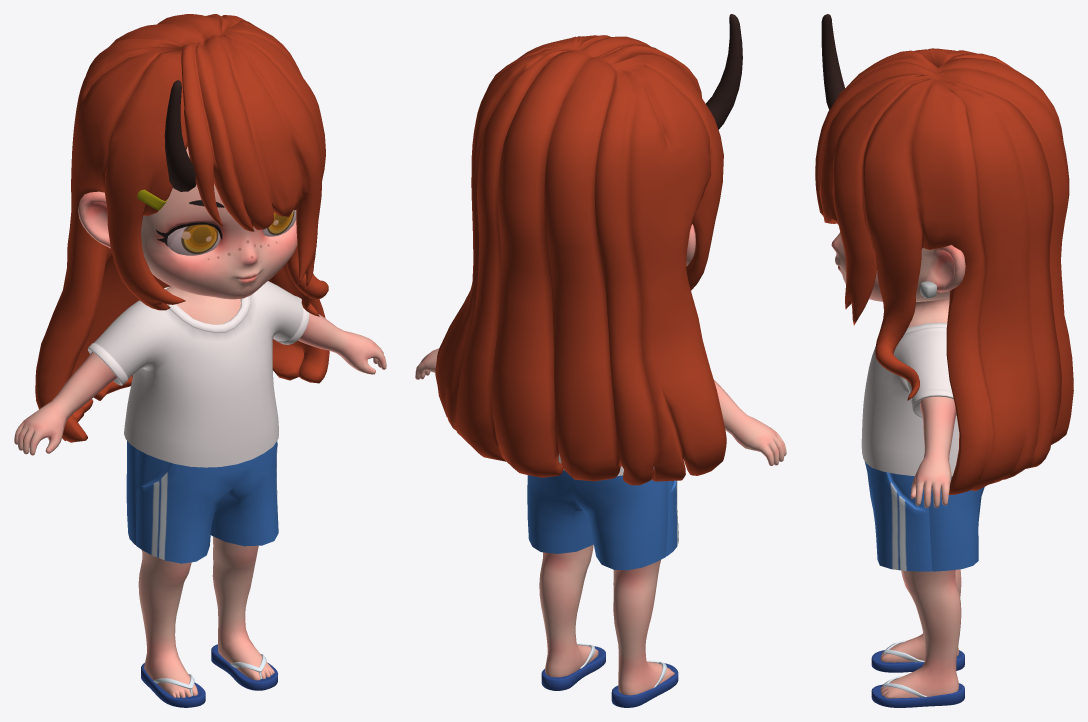
File: w_hair_01.fbx
3 views of the same model, side by side, from view 1: azimuth 30°, elevation 25°; view 2: azimuth 150°, elevation 25°; view 3: azimuth 270°, elevation 25° (orthographic). The views are drawn at different scales.
Visible parts, largest first — view 1: w_hair_01, shangbanshen, xiabanshen, head, foot, hand; view 2: w_hair_01, xiabanshen, foot, hand, shangbanshen; view 3: w_hair_01, xiabanshen, shangbanshen, foot, head, hand.
Part boxes in pixels (x1,y1,x2,y2): w_hair_01: (35, 14, 329, 442); shangbanshen: (52, 281, 347, 467); xiabanshen: (126, 441, 278, 661); head: (78, 146, 297, 299); foot: (141, 637, 277, 707); hand: (14, 331, 386, 455); w_hair_01: (435, 14, 742, 485); xiabanshen: (527, 467, 678, 676); foot: (541, 643, 678, 707); hand: (415, 348, 786, 465); shangbanshen: (558, 364, 746, 476); w_hair_01: (815, 14, 1073, 494); xiabanshen: (864, 461, 984, 677); shangbanshen: (861, 298, 959, 476); foot: (871, 634, 964, 707); head: (831, 232, 965, 301); hand: (910, 453, 951, 507).
Size of the model in its own units: 120 by 208 by 77.06.
6 materials, 6 textured.
